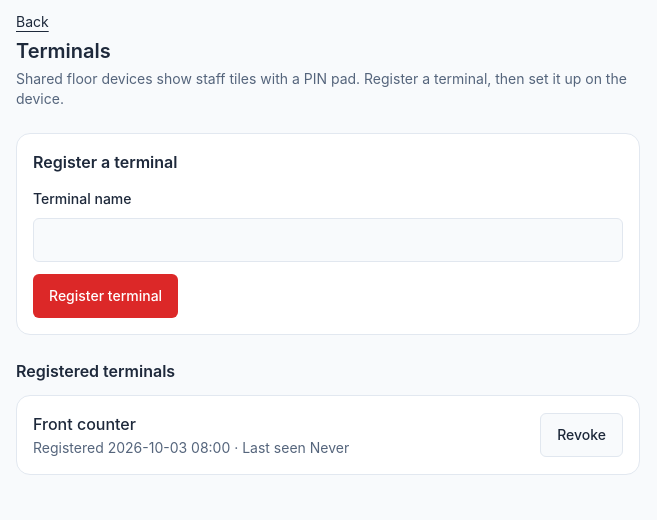
Scenario: TerminalsPage › validates the name locally
This screenshot has width=657, height=520.
Click the button "Register terminal".
click(106, 296)  # box [33,274,178,318]
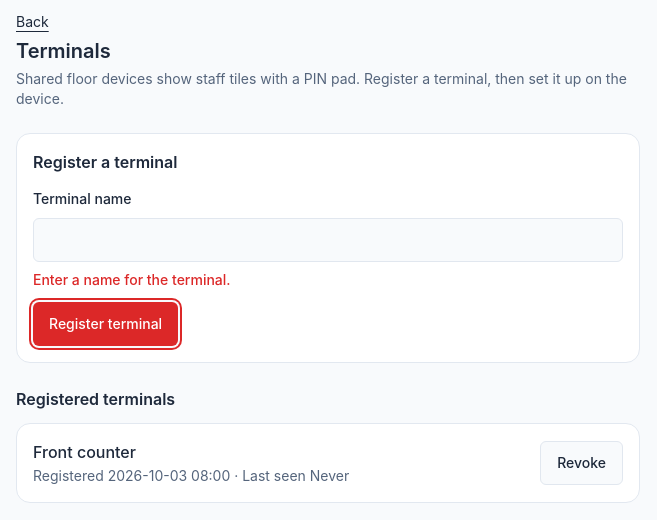
Now the message reads "Enter a name for the terminal.", box [33,271,231,288]
